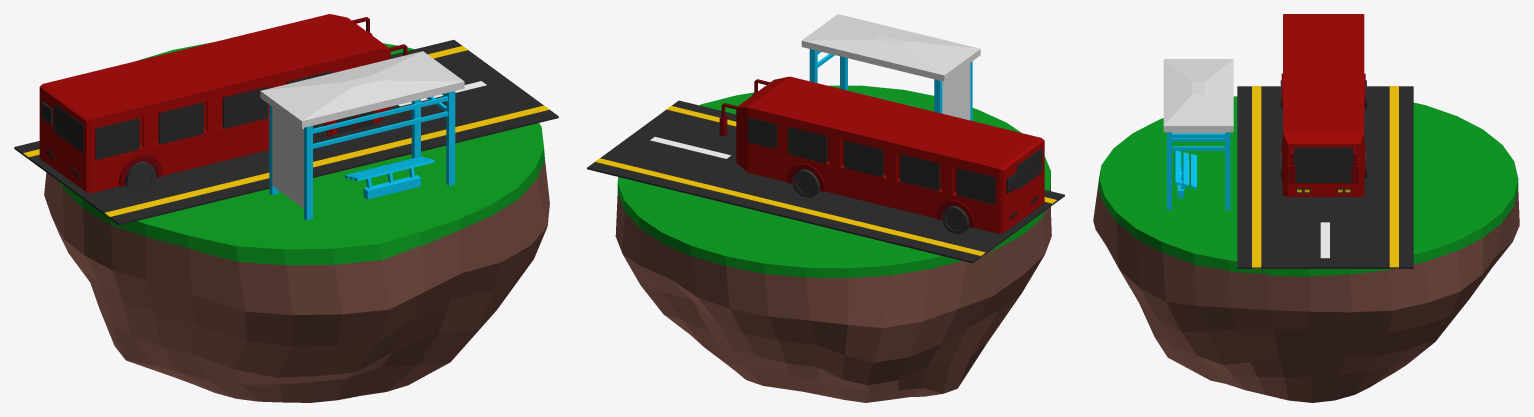
The model's file is island_bus.glb.
The picture shows the model from 3 angles, left to right: view 1: azimuth 30°, elevation 25°; view 2: azimuth 150°, elevation 25°; view 3: azimuth 270°, elevation 25°; orthographic projection. The views are drawn at different scales.
Parts seen in each view (by area): view 1: island, bus, road, roof, bus_stop, billboard, bench, wheels; view 2: island, bus, road, roof, billboard, wheels, bus_stop; view 3: island, road, bus, roof, bus_stop, bench, mirrors.
Boxes of the visible parts, bbox=[...] form: island: bbox=[44, 42, 549, 402]; bus: bbox=[39, 14, 390, 193]; road: bbox=[14, 40, 558, 225]; roof: bbox=[260, 51, 464, 128]; bus_stop: bbox=[269, 91, 455, 220]; billboard: bbox=[272, 107, 303, 208]; bench: bbox=[344, 156, 434, 199]; wheels: bbox=[125, 123, 326, 193]; island: bbox=[615, 85, 1051, 402]; bus: bbox=[736, 76, 1044, 233]; road: bbox=[587, 100, 1064, 263]; roof: bbox=[801, 14, 980, 81]; billboard: bbox=[942, 63, 970, 120]; wheels: bbox=[792, 169, 969, 234]; bus_stop: bbox=[809, 49, 972, 120]; island: bbox=[1093, 96, 1519, 402]; road: bbox=[1237, 86, 1413, 268]; bus: bbox=[1281, 14, 1365, 196]; roof: bbox=[1163, 59, 1233, 132]; bus_stop: bbox=[1167, 132, 1230, 209]; bench: bbox=[1174, 150, 1196, 198]; mirrors: bbox=[1288, 145, 1358, 183].
Bounding box in the file's own units: 25.2 × 17.21 × 24.67.
